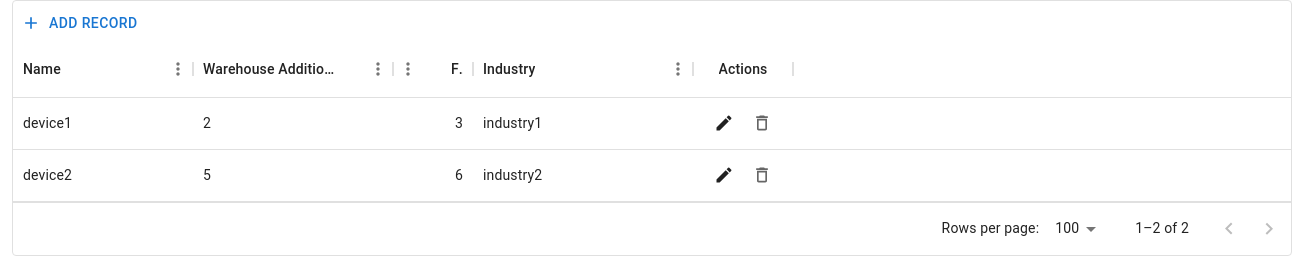
Test: Edit/Cancel Functionality › Cancel button returns fields to display fields
Expected: the text "device1" is shown, x1=23 y1=113 x2=72 y2=133
Step 1. Click the menu item with test id "edit-button" in the row of "device1" → (724, 123), box x1=709 y1=108 x2=739 y2=138
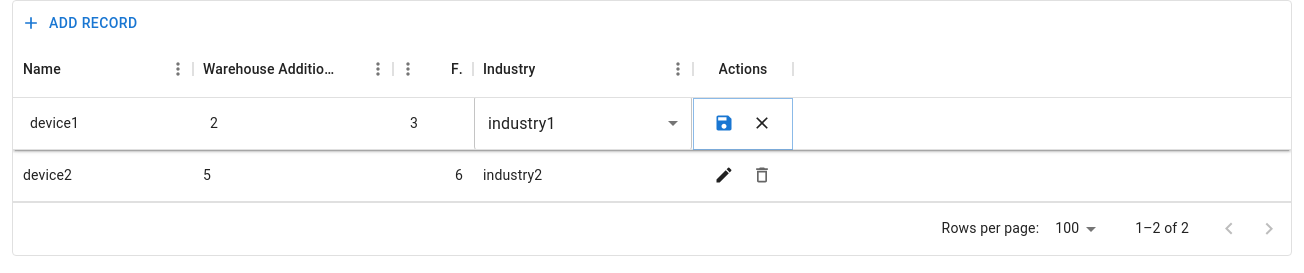
Now the field showing "device1" is shown, box x1=14 y1=115 x2=192 y2=131
Step 2. Click the menu item with test id "cancel-button" → (762, 123), box x1=747 y1=108 x2=777 y2=138
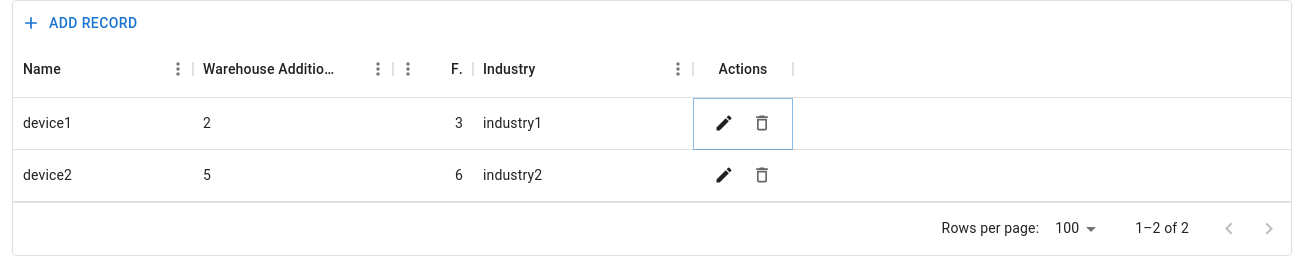
Now the text "device1" is shown, box x1=23 y1=113 x2=72 y2=133
